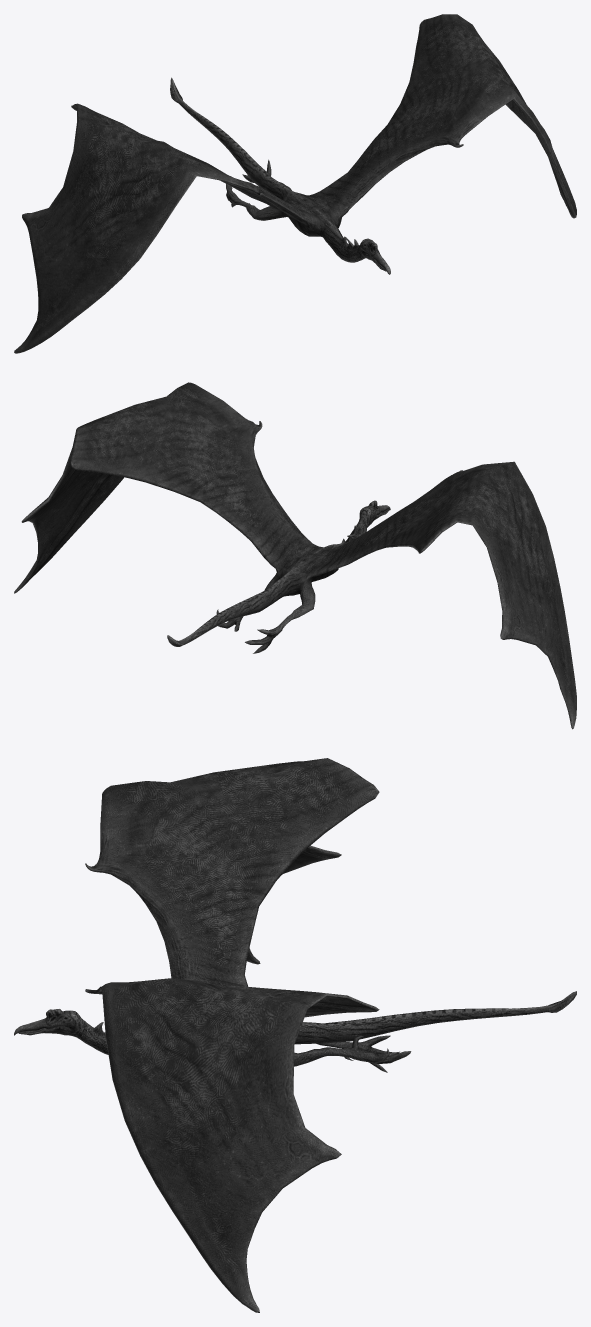
Rendered from Fellbeast_Animate_Grab_Glide_40.obj.
The picture shows the model from 3 angles, top to bottom: view 1: azimuth 30°, elevation 25°; view 2: azimuth 150°, elevation 25°; view 3: azimuth 270°, elevation 25°; orthographic projection. The views are drawn at different scales.
Parts seen in each view (by area): view 1: Fellbeast; view 2: Fellbeast; view 3: Fellbeast.
Boxes of the visible parts, x1,y1,x2,y2 form: Fellbeast: (14, 14, 576, 353); Fellbeast: (14, 382, 576, 729); Fellbeast: (14, 758, 576, 1312).
Size of the model in its own units: 6.37 by 2.24 by 4.35.
